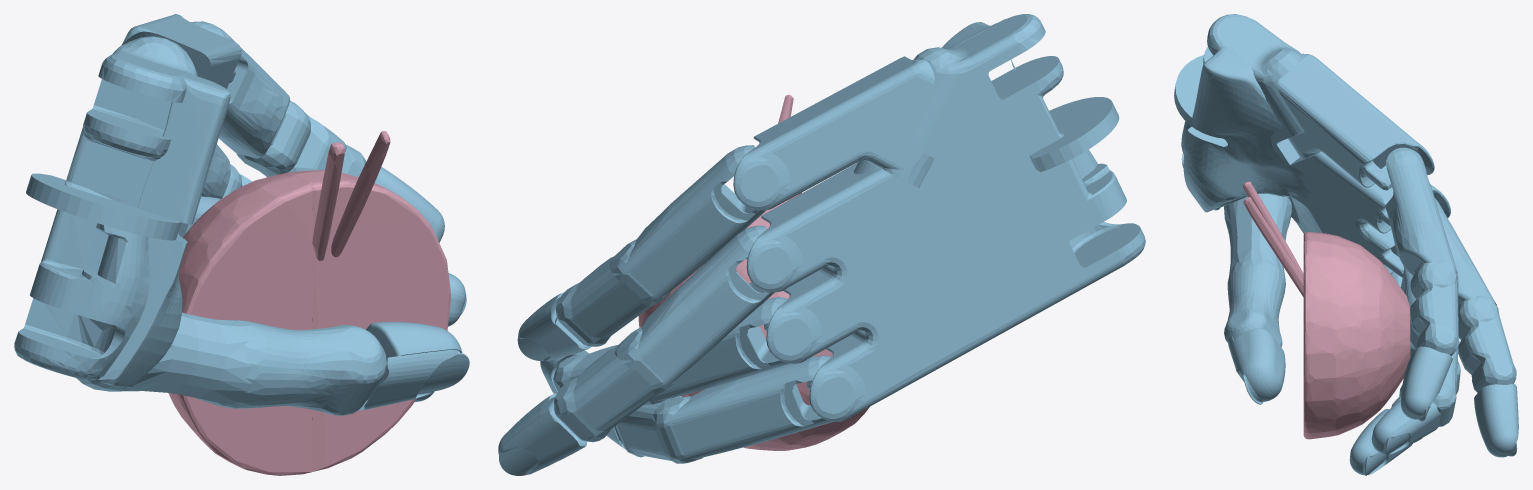
3 views of the same model, side by side, from view 1: azimuth 30°, elevation 25°; view 2: azimuth 150°, elevation 25°; view 3: azimuth 270°, elevation 25° (orthographic). The views are drawn at different scales.
Visible parts, largest first — view 1: hand_isaac_q, world; view 2: hand_isaac_q, world; view 3: hand_isaac_q, world.
Boxes of the visible parts, bbox=[...] form: hand_isaac_q: bbox=[14, 14, 469, 415]; world: bbox=[168, 131, 450, 475]; hand_isaac_q: bbox=[498, 14, 1145, 475]; world: bbox=[638, 94, 869, 450]; hand_isaac_q: bbox=[1174, 14, 1518, 475]; world: bbox=[1243, 181, 1410, 439].
Size of the model in its own units: 0.1651 by 0.1396 by 0.1301.
